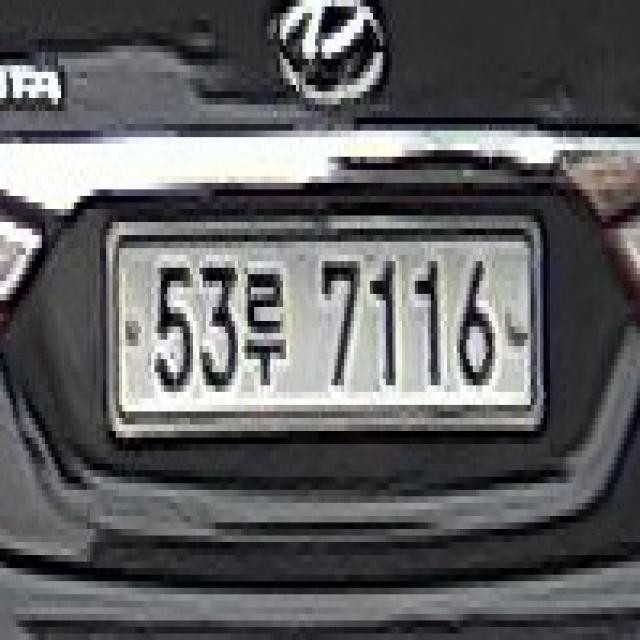1: (399, 242, 447, 398), (373, 242, 405, 398)
3: (190, 242, 238, 398)
5: (138, 235, 200, 398)
6: (451, 255, 498, 385)
7: (316, 242, 364, 398)
license_plate: (93, 196, 553, 437)
lu: (235, 255, 292, 392)
